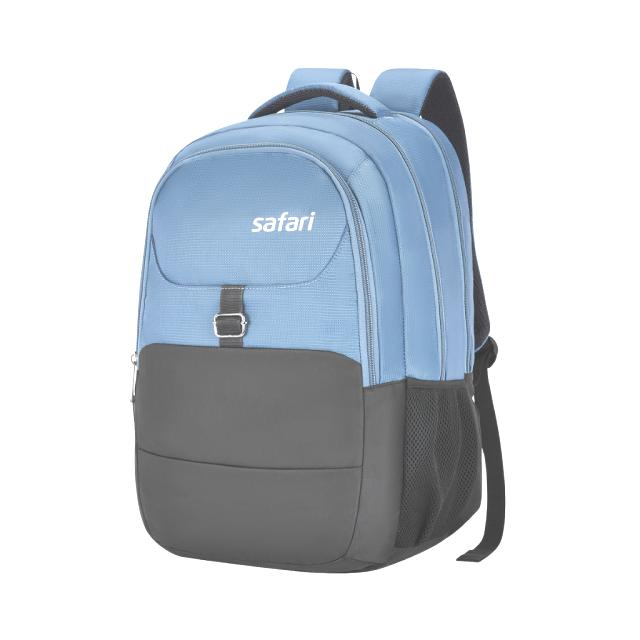backpack: (131, 67, 508, 575)
